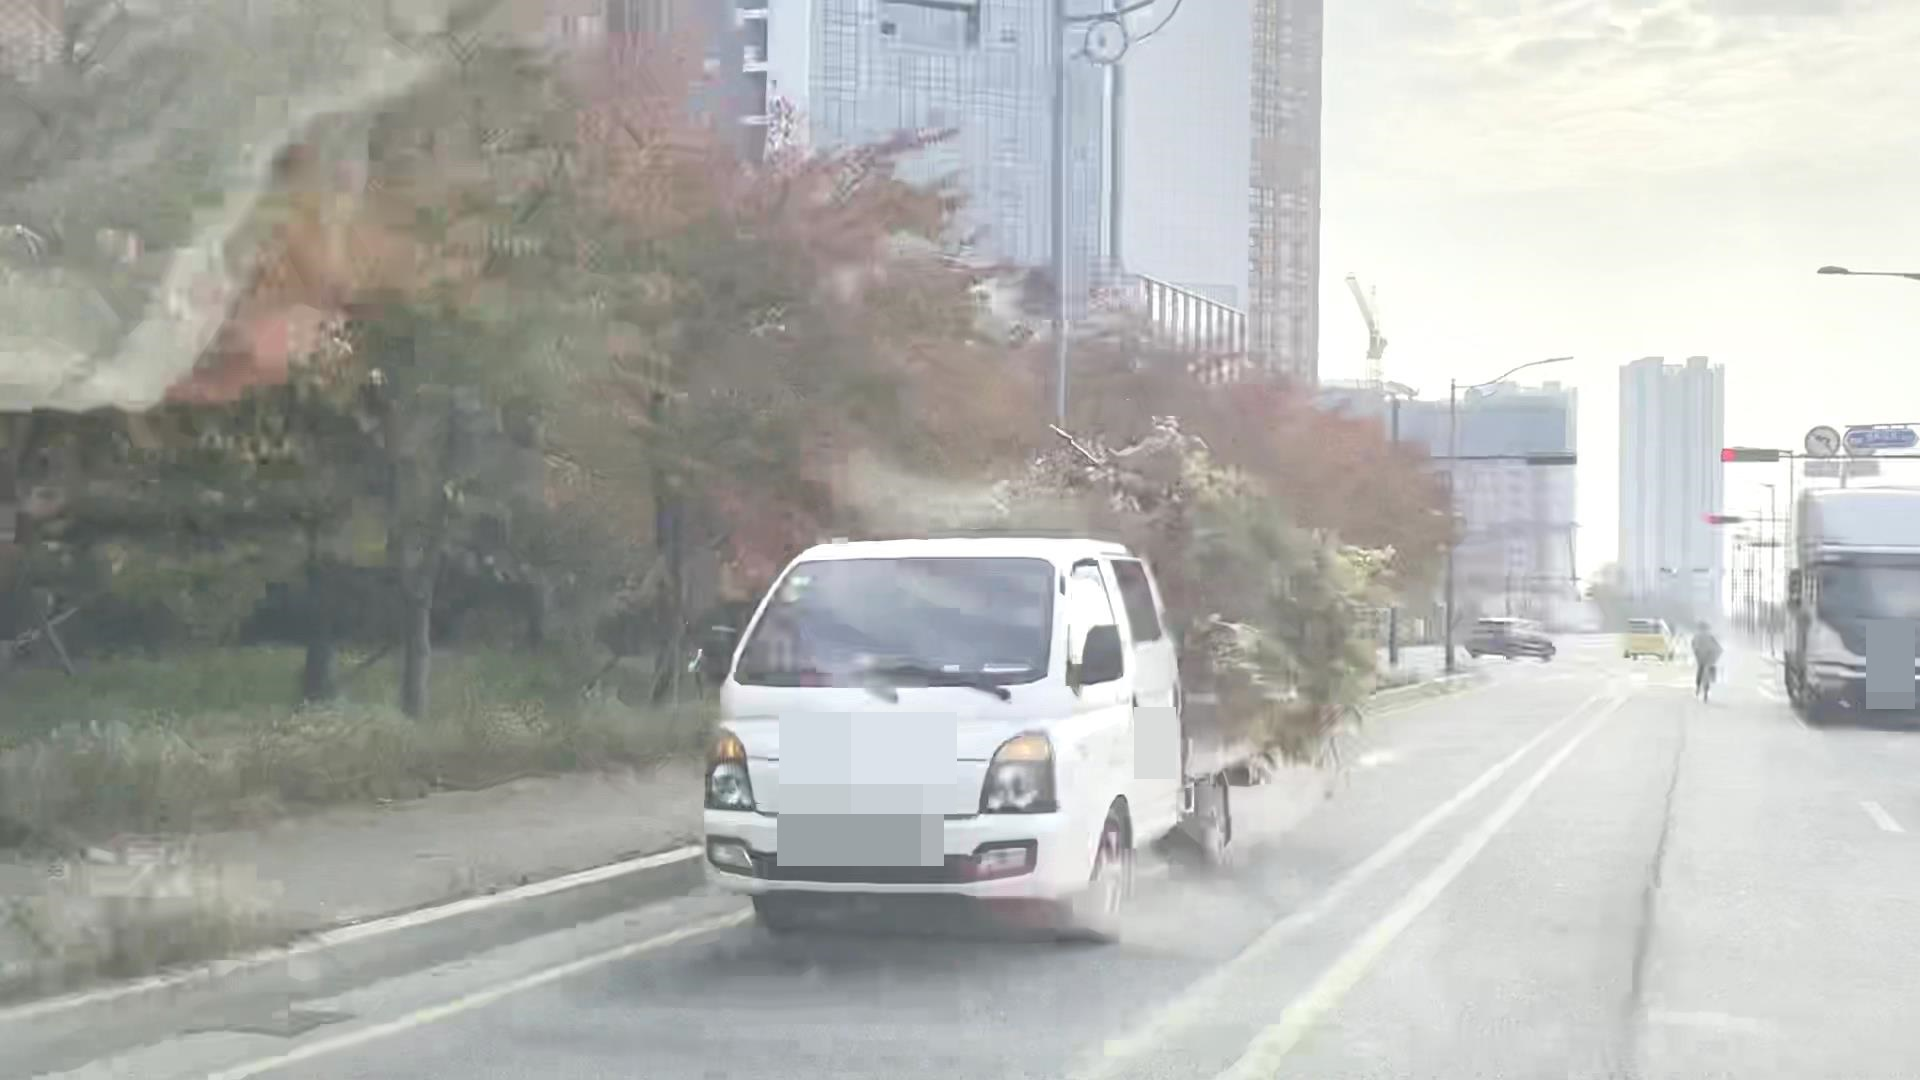불법차량: (687, 413, 1402, 944)
